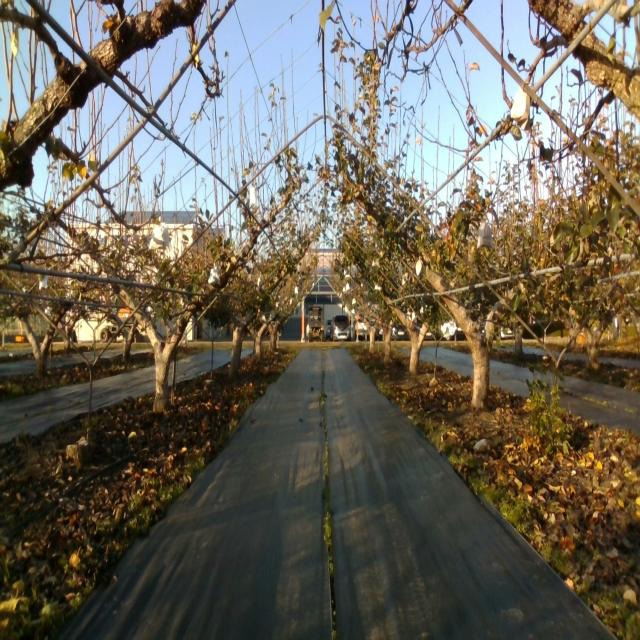pearbags: (510, 86, 531, 133), (148, 216, 168, 252), (476, 221, 495, 252), (208, 264, 220, 284)
